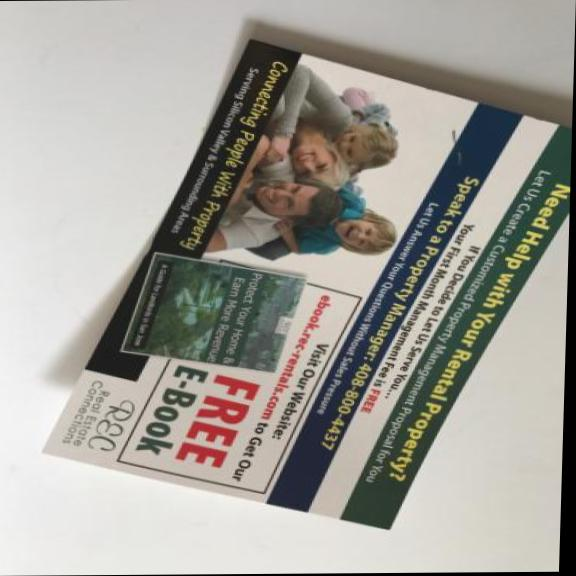Kertas: (31, 31, 574, 540)
